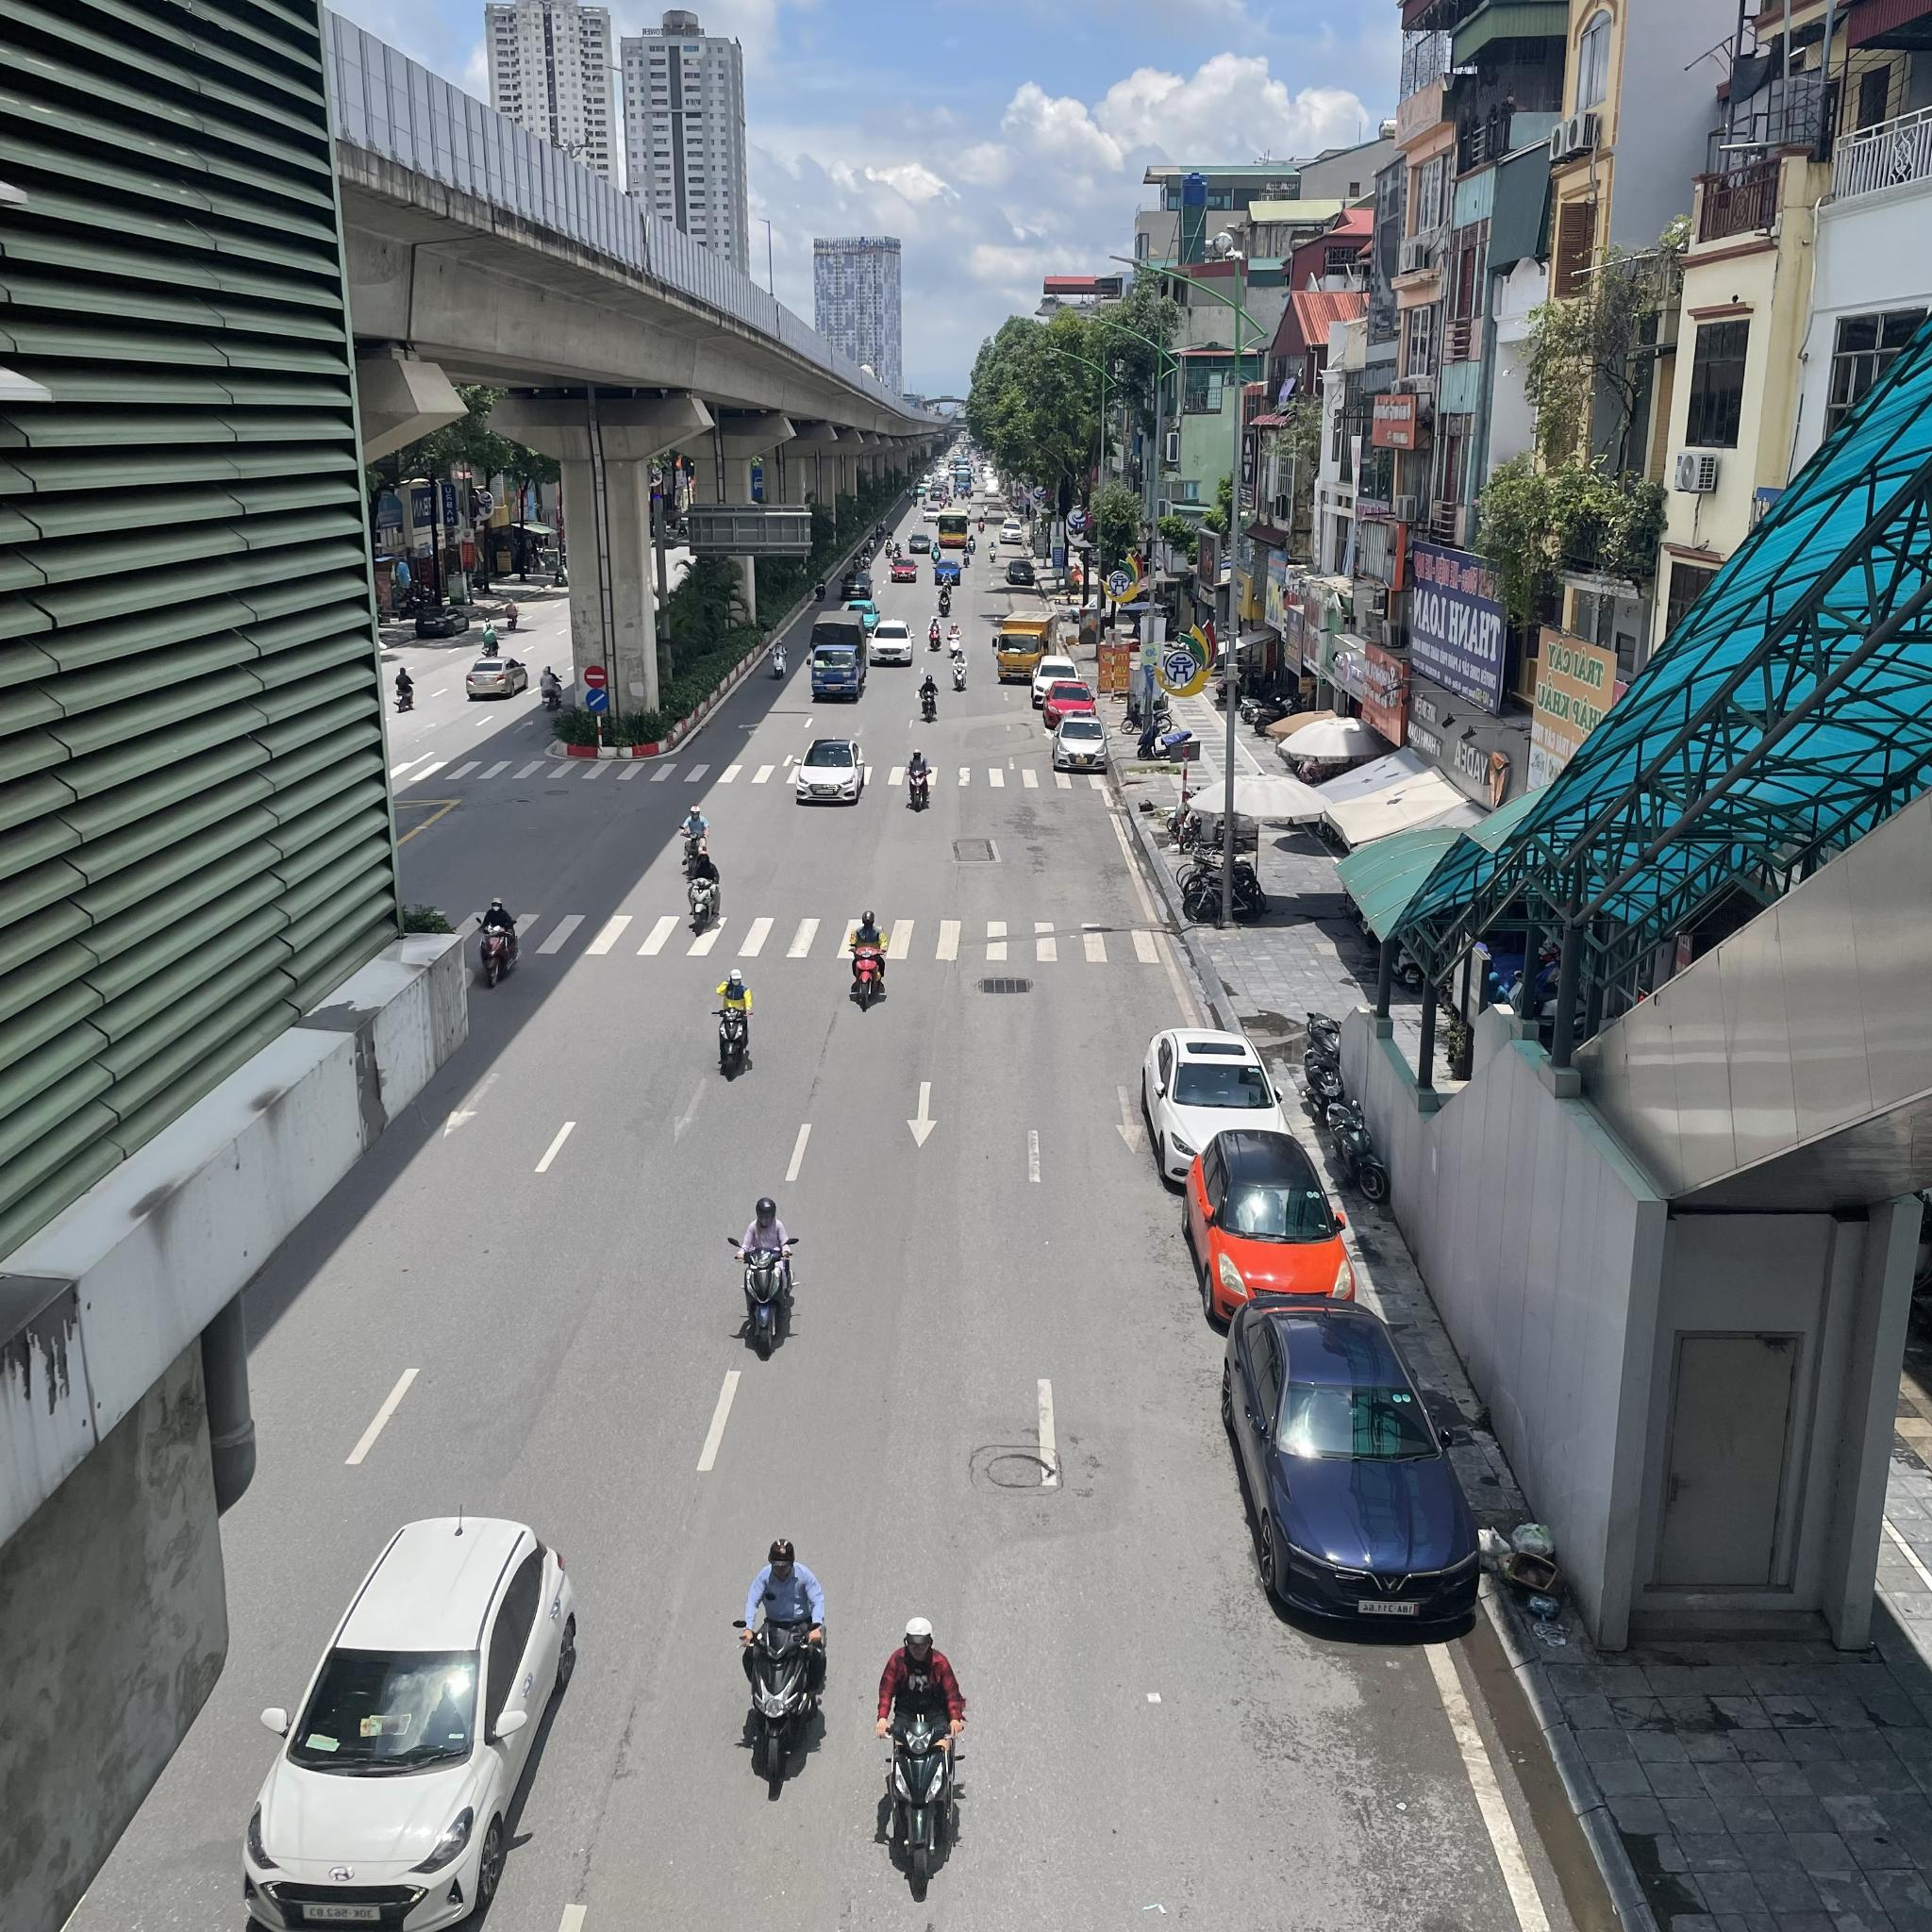car: (242, 1509, 570, 1921), (1233, 1286, 1468, 1637), (1198, 1125, 1350, 1327), (1139, 1026, 1299, 1185), (809, 614, 865, 702), (796, 740, 863, 805), (1051, 713, 1109, 770), (1039, 679, 1097, 731), (1030, 655, 1081, 706), (869, 621, 908, 663), (939, 508, 968, 547), (1003, 561, 1037, 584), (892, 557, 920, 584), (842, 571, 870, 598), (931, 559, 962, 580), (1001, 520, 1026, 543), (908, 534, 931, 552)
motobike: (872, 1612, 964, 1895), (729, 1534, 826, 1794), (722, 1196, 805, 1369), (844, 908, 888, 1014), (717, 970, 750, 1088), (485, 888, 515, 982), (686, 847, 720, 931), (672, 807, 711, 874), (902, 745, 936, 810), (761, 640, 791, 683), (918, 676, 941, 718), (948, 651, 970, 688), (936, 589, 954, 614), (812, 573, 826, 602), (948, 623, 961, 655), (931, 619, 939, 655), (987, 536, 998, 564), (849, 550, 860, 571), (931, 543, 941, 563), (872, 524, 885, 540), (885, 536, 892, 561), (869, 531, 878, 550), (890, 545, 901, 561), (863, 550, 870, 573), (968, 534, 975, 554), (962, 547, 970, 564)
